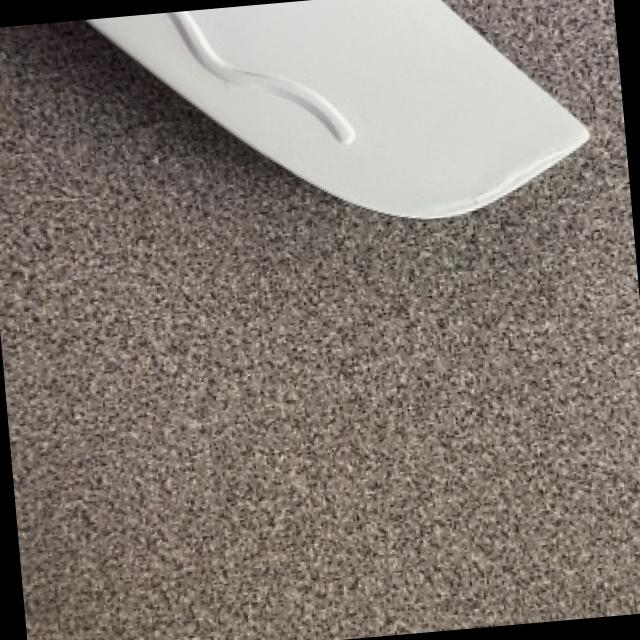healthy: (90, 0, 589, 215)
